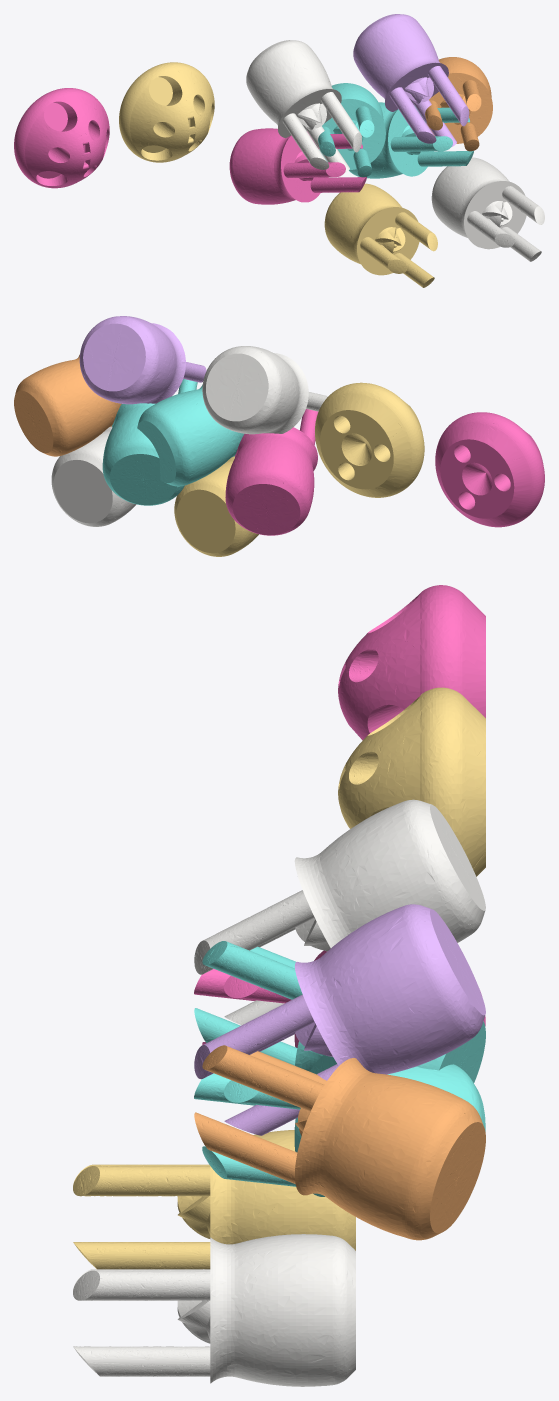
File: aretes-hongo.glb
The picture shows the model from 3 angles, top to bottom: view 1: azimuth 30°, elevation 25°; view 2: azimuth 150°, elevation 25°; view 3: azimuth 270°, elevation 25°; orthographic projection. The views are drawn at different scales.
Visible parts, largest first — view 1: 1_1; view 2: 1_1; view 3: 1_1.
Boxes of the visible parts, x1,y1,x2,y2 form: 1_1: (14, 14, 544, 287); 1_1: (14, 316, 544, 556); 1_1: (73, 585, 485, 1386).
Size of the model in its own units: 107 by 45.82 by 41.08.
1 material, 1 textured.
